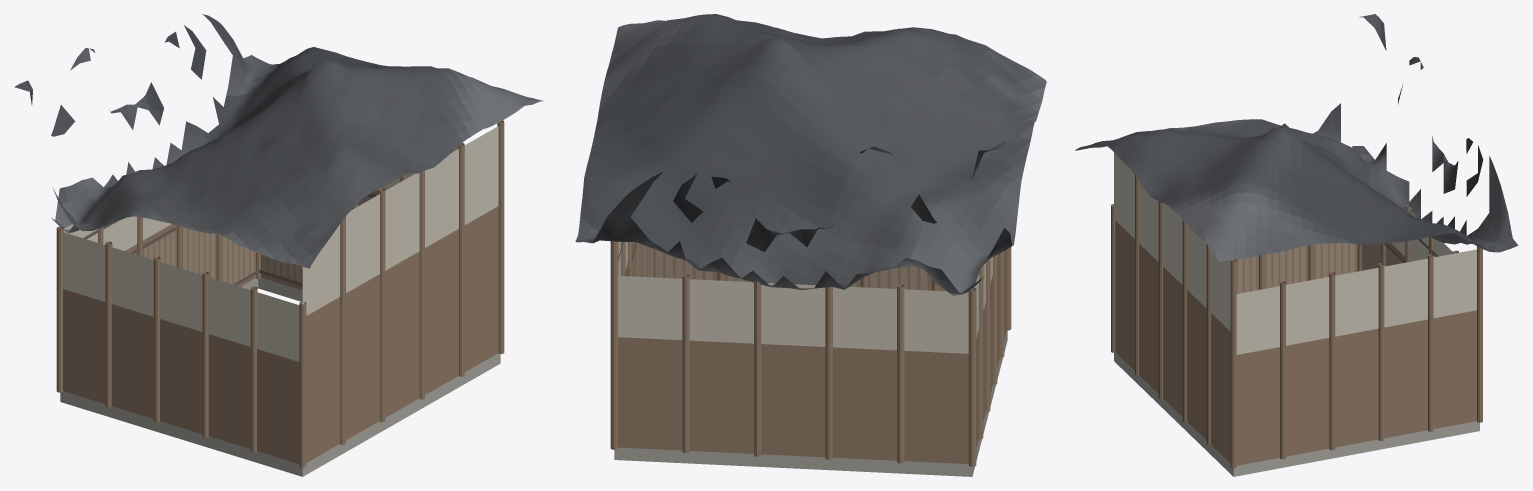
Rendered from kurama-tenporindo.glb.
3 renders of one model, left to right at view 1: azimuth 30°, elevation 25°; view 2: azimuth 150°, elevation 25°; view 3: azimuth 270°, elevation 25°, orthographic. The views are drawn at different scales.
Visible parts, largest first — view 1: Weathered timber, Measured roof, Lime plaster, Stone footings, Shutter slats, Timber in shade; view 2: Measured roof, Weathered timber, Lime plaster, Stone footings, Shutter slats; view 3: Weathered timber, Measured roof, Lime plaster, Stone footings, Shutter slats.
Boxes of the visible parts, box(x1,y1,x2,y2) form: Weathered timber: box(56, 120, 504, 467); Measured roof: box(14, 14, 542, 268); Lime plaster: box(63, 126, 498, 361); Stone footings: box(60, 277, 500, 476); Shutter slats: box(135, 197, 370, 284); Timber in shade: box(83, 193, 376, 286); Measured roof: box(575, 14, 1046, 295); Weathered timber: box(610, 241, 1011, 466); Lime plaster: box(618, 241, 997, 353); Stone footings: box(614, 330, 1007, 476); Shutter slats: box(632, 244, 968, 292); Weathered timber: box(1111, 175, 1482, 468); Measured roof: box(1075, 14, 1518, 261); Lime plaster: box(1114, 152, 1476, 354); Stone footings: box(1114, 352, 1479, 476); Shutter slats: box(1238, 243, 1402, 293).
Size of the model in its own units: 20.26 by 13.82 by 19.51.
Materials: 6 (1 with a texture image).
